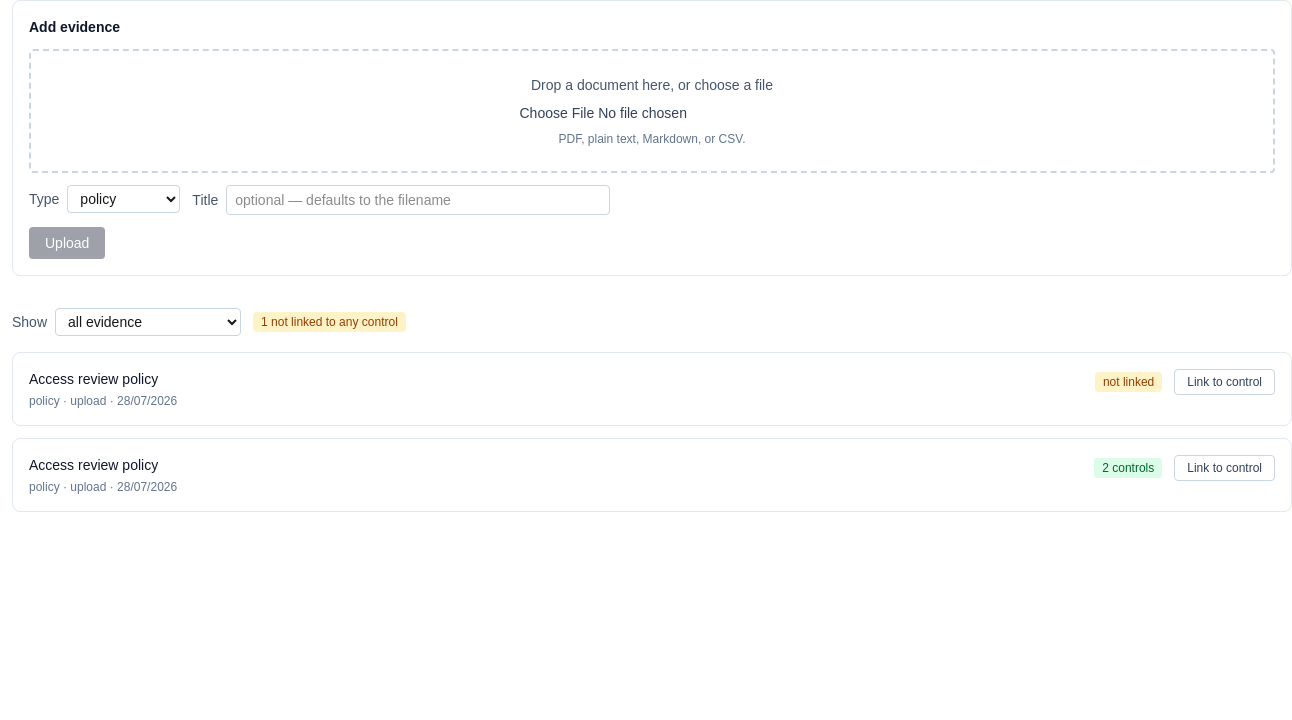
Test case: EvidenceList › surfaces orphans with a badge and an unlinked filter
The width and height of the screenshot is (1292, 720).
Check: the text "1 not linked to any control" is shown, box [253,312,406,332]
Select "not linked to any control" in the dropdown named "Filter by link status" at x=148, y=322, box [55,308,241,336]
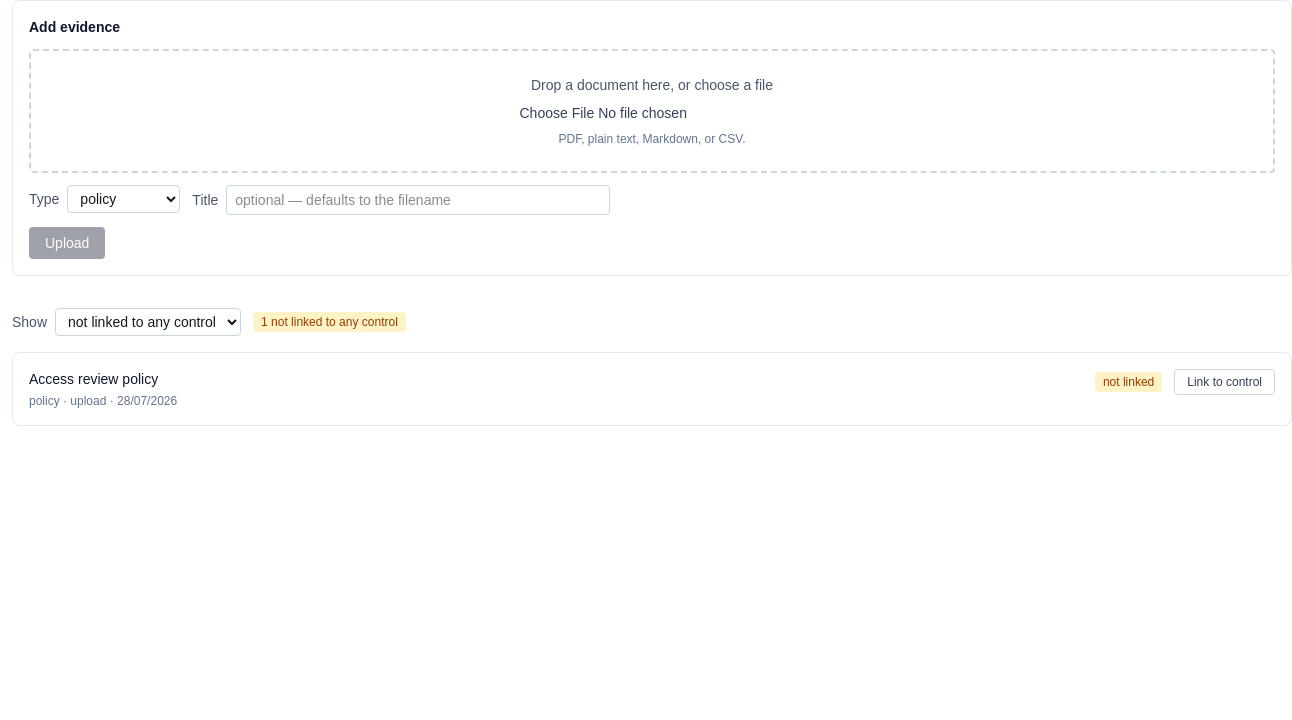
Check: the list item with test id "evidence-rec-1" is shown, box [12,352,1291,426]
Check: the list item with test id "evidence-rec-2" is gone
